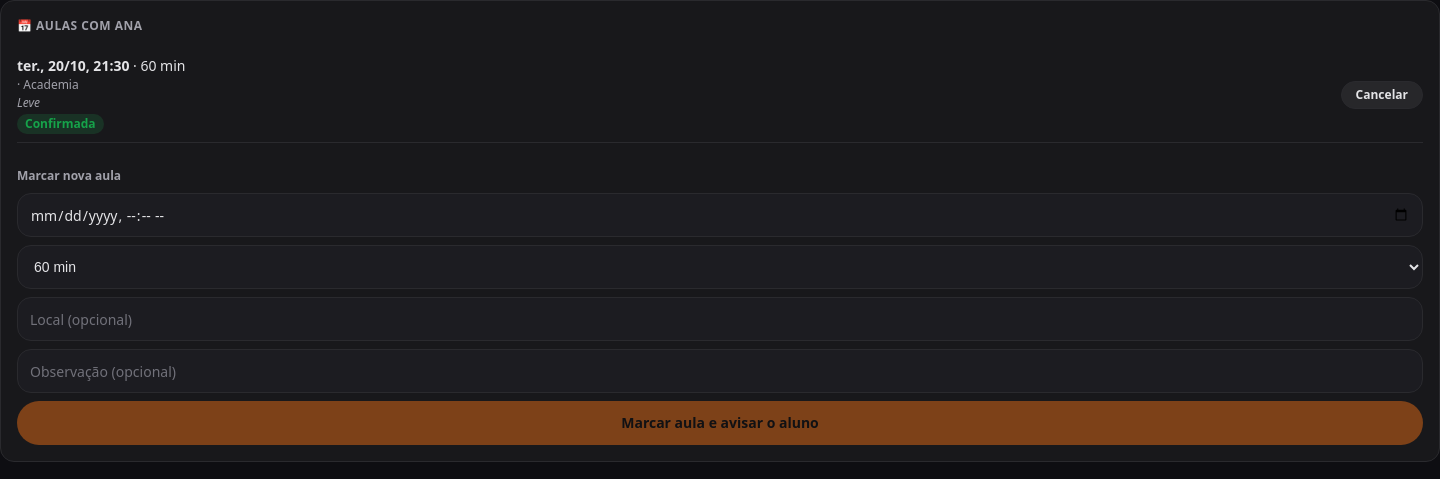
it: ClientAppointments › o botão de marcar só habilita com data e hora
Expected: the text "· Academia" is shown, [17,76,79,93]
Expected: the button "Marcar aula e avisar o aluno" is disabled, [17,401,1423,445]
Step 1. Type "2026-10-25T18:30" into the field named "Data e hora" → (720, 215), box [17,193,1423,237]
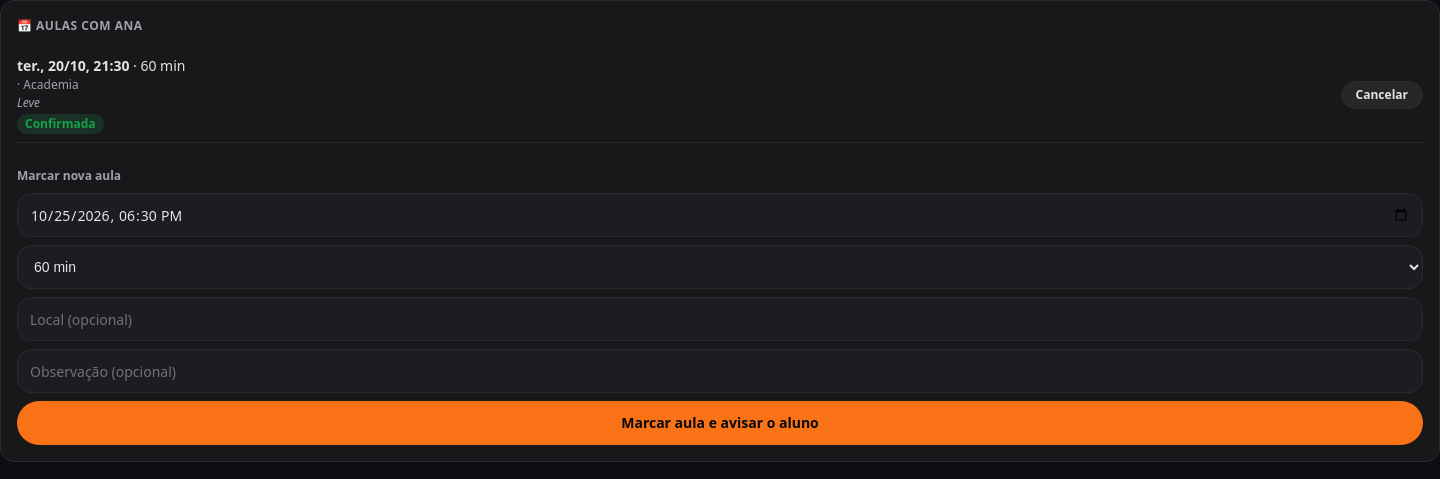
Now the button "Marcar aula e avisar o aluno" is enabled, box [17,401,1423,445]
